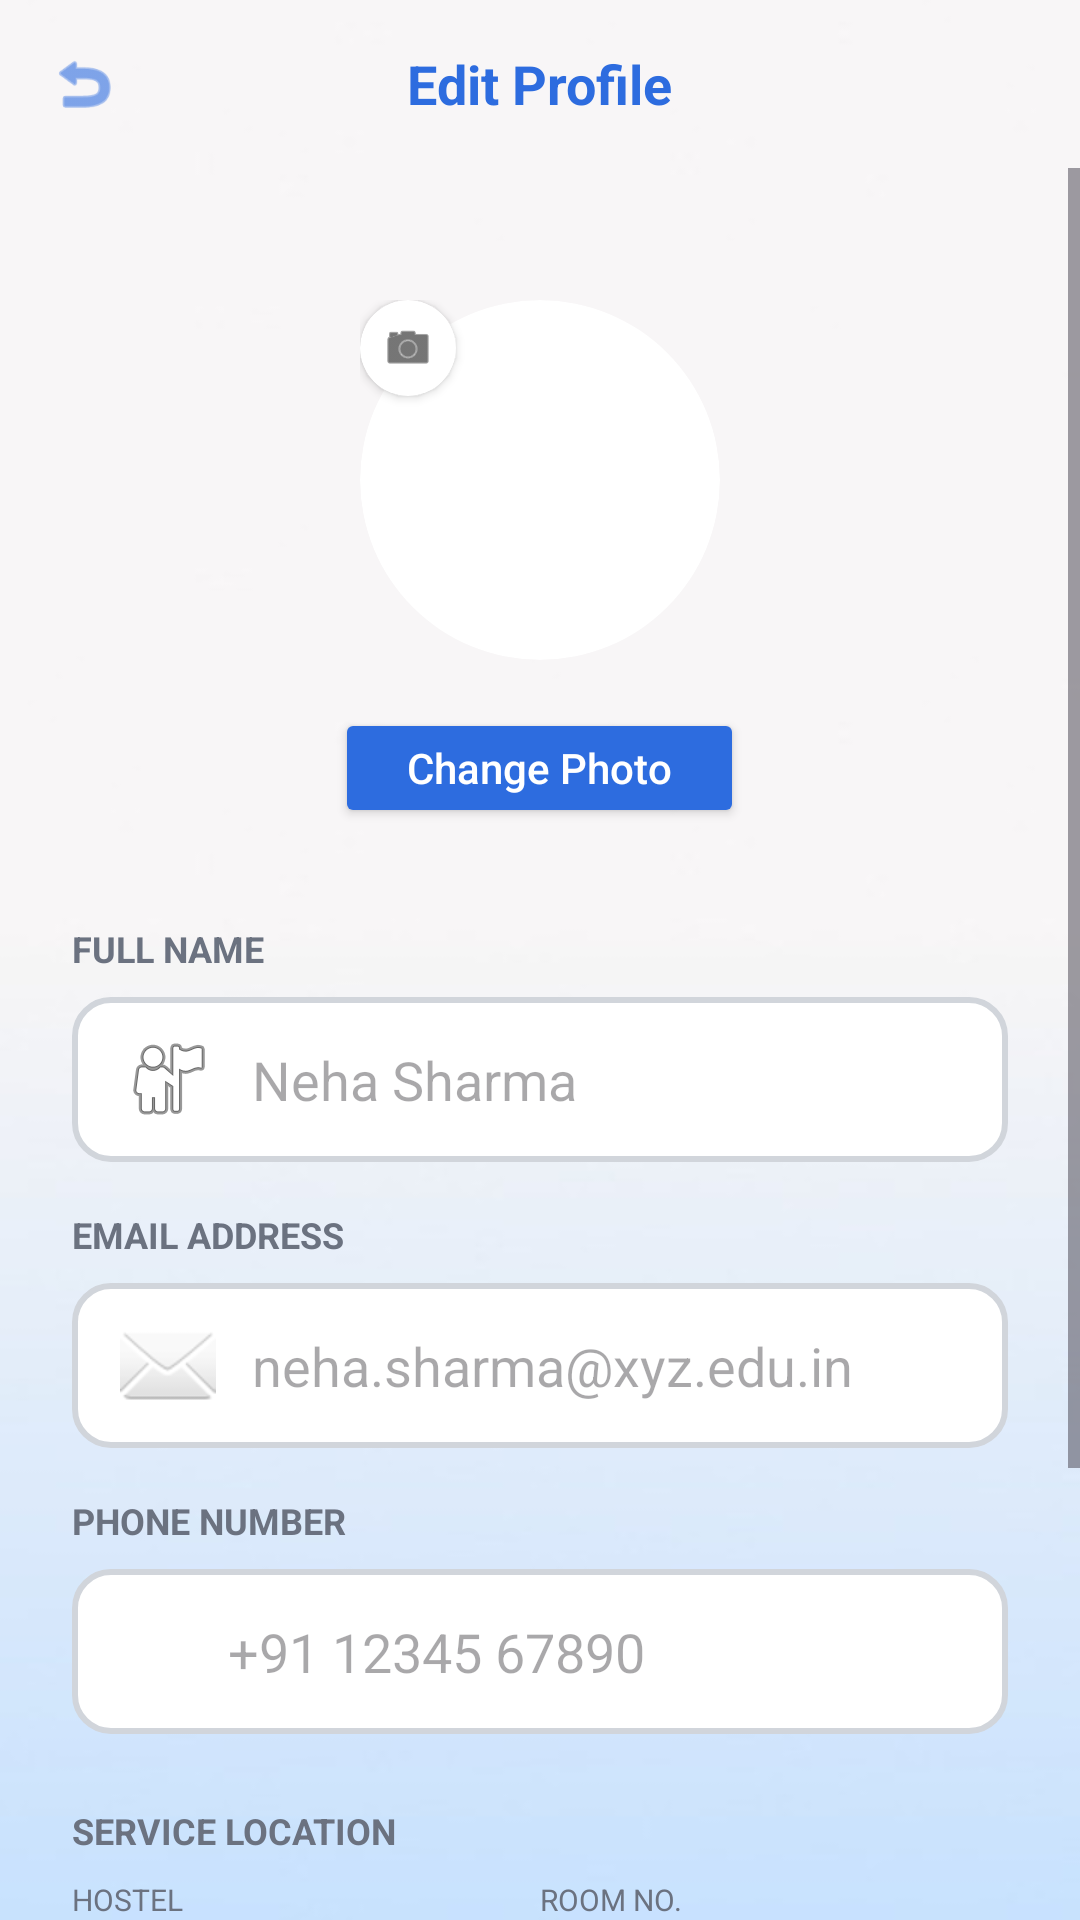

Icons on this 1080x1920 Android screen, each with the point to tap as (x,y):
revert: (85,84)
